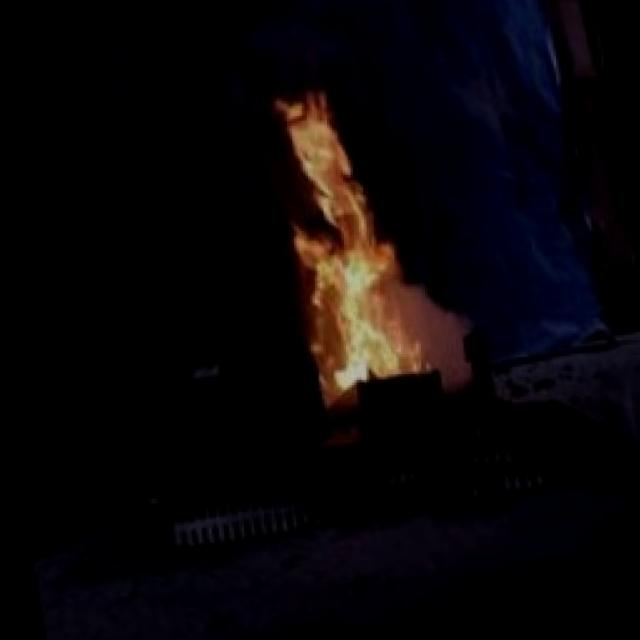fire: (242, 53, 463, 416)
